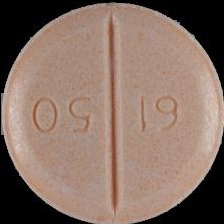55700-002: (0, 0, 224, 224)
